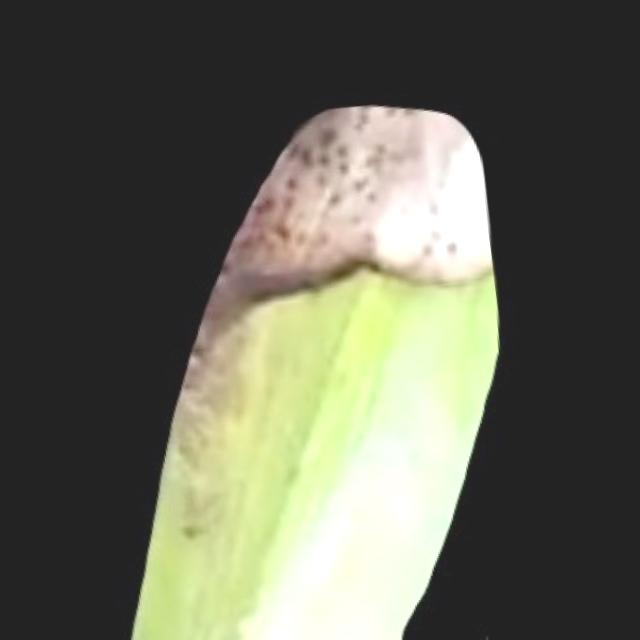mite: (397, 581, 530, 640), (414, 191, 469, 263), (405, 611, 507, 640), (460, 606, 528, 638), (438, 614, 513, 640), (404, 625, 509, 640), (178, 515, 217, 550), (467, 613, 505, 637), (182, 522, 210, 543), (473, 626, 515, 637), (352, 173, 373, 194), (444, 238, 465, 254), (477, 628, 499, 636)
